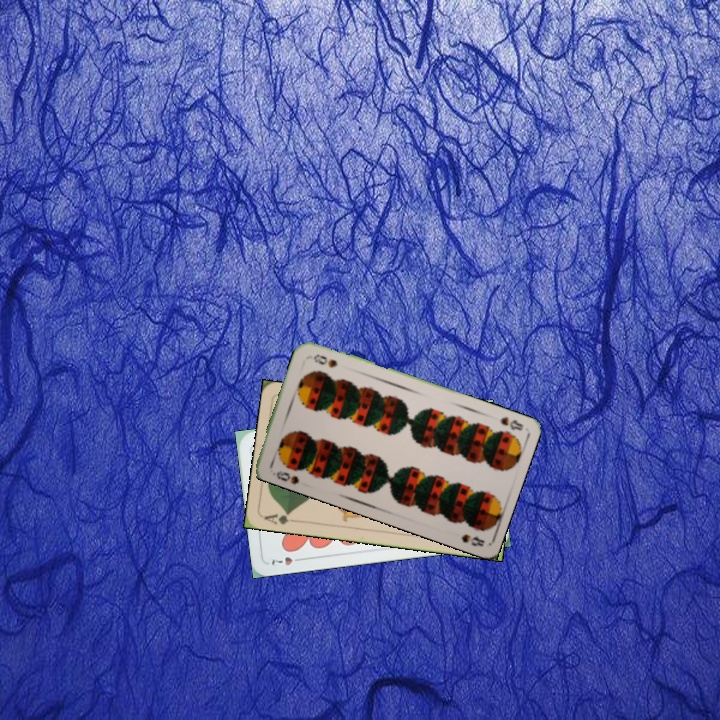GA: (260, 508, 300, 527)
H7: (268, 553, 306, 568)
S8: (269, 467, 301, 487), (496, 413, 526, 433)
